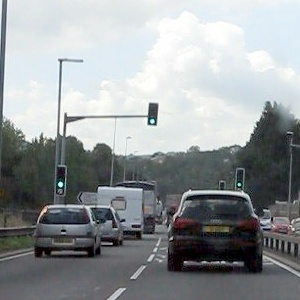go: (55, 166, 66, 197), (148, 102, 158, 126), (236, 168, 244, 190)
